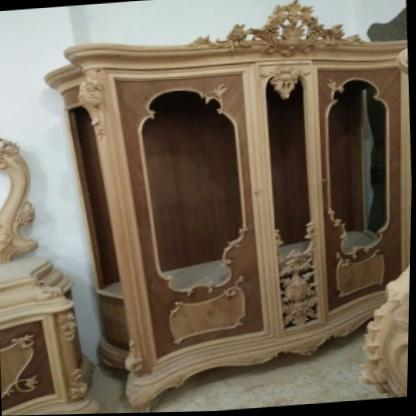Closet: (43, 4, 412, 411)
